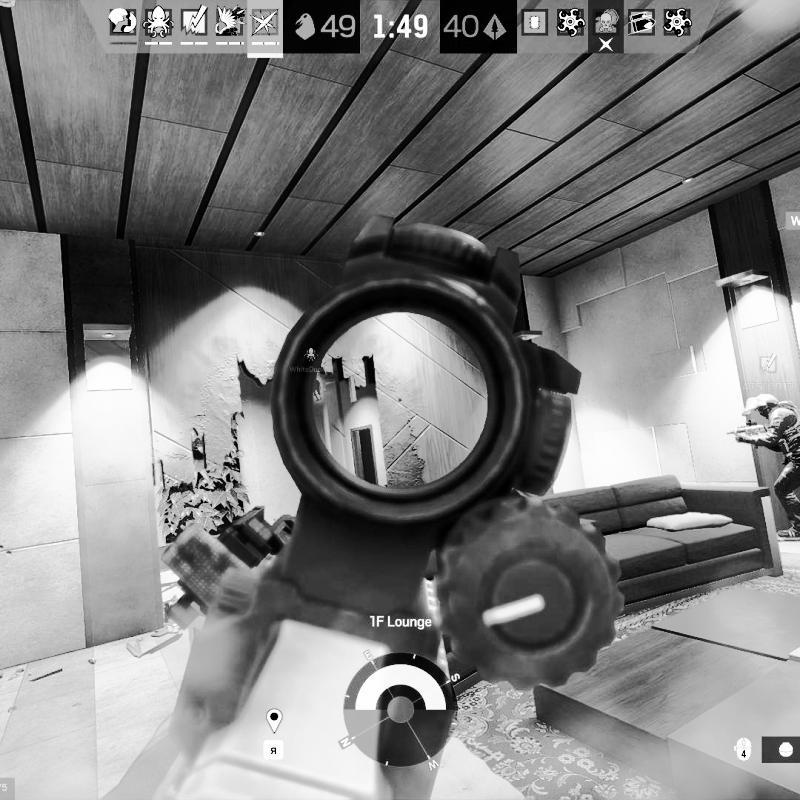Character: (725, 391, 800, 540)
Friend_label: (736, 350, 800, 392), (282, 345, 343, 375)
Head: (753, 393, 778, 417)
